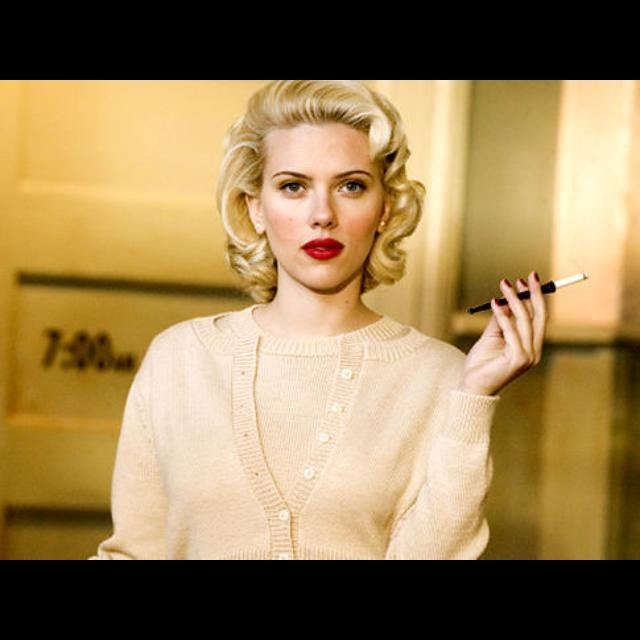rokok: (554, 266, 592, 296)
